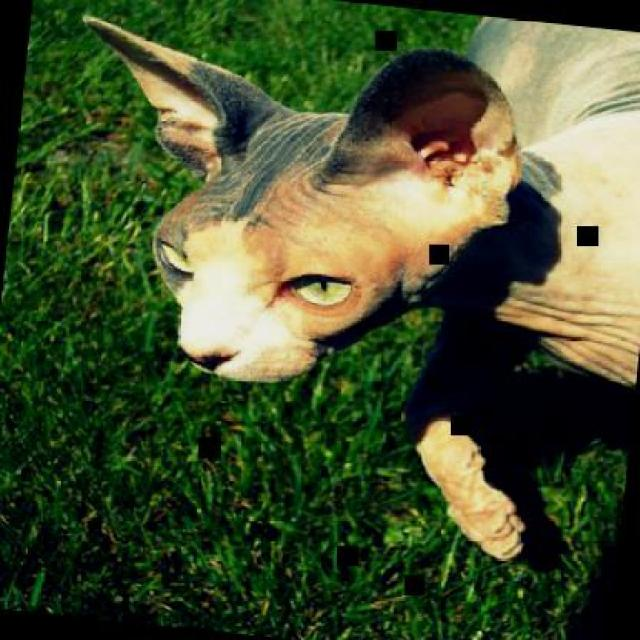cat: (27, 0, 638, 572)
